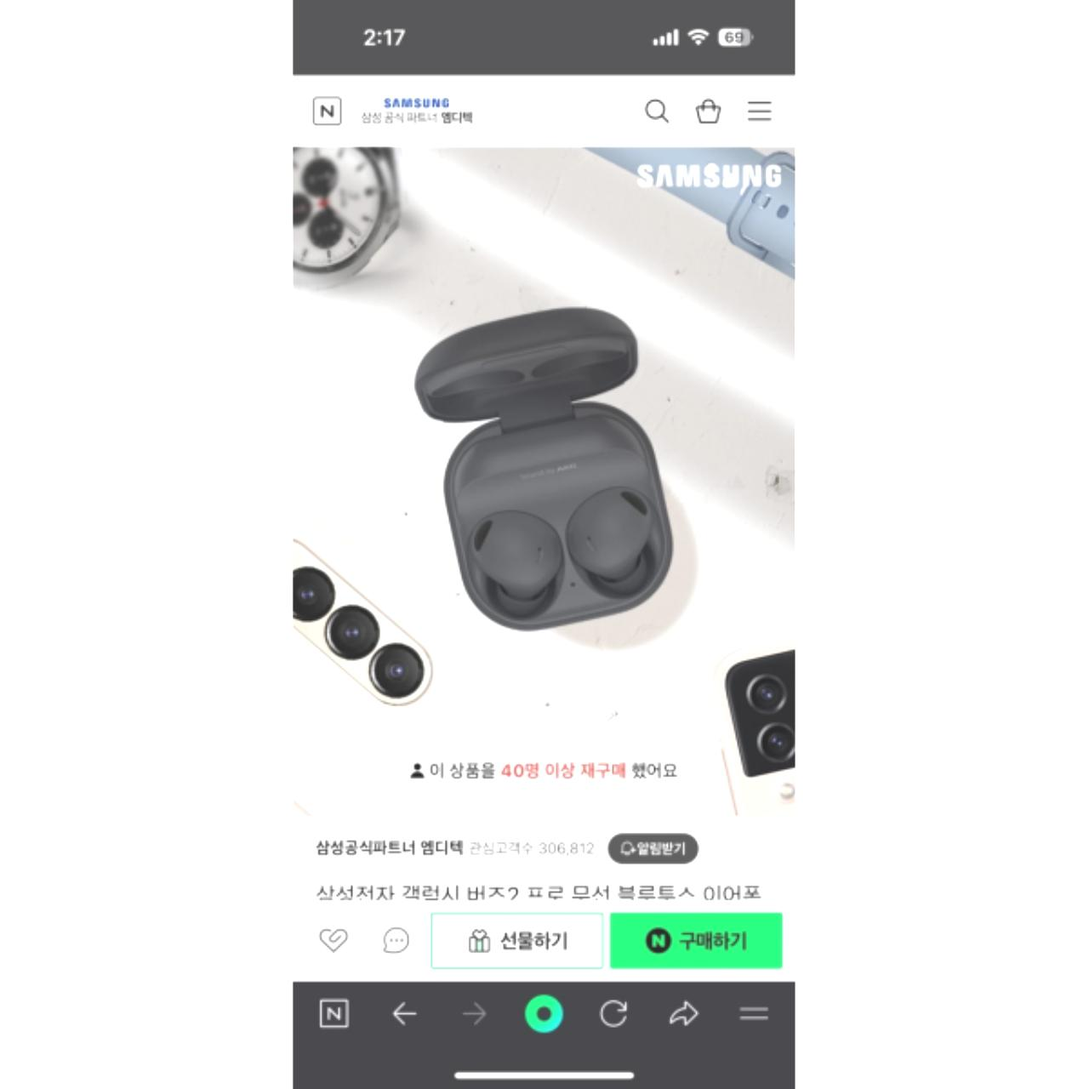Buds: (409, 299, 683, 649)
Buds_Units: (560, 484, 665, 599), (464, 505, 566, 623)
